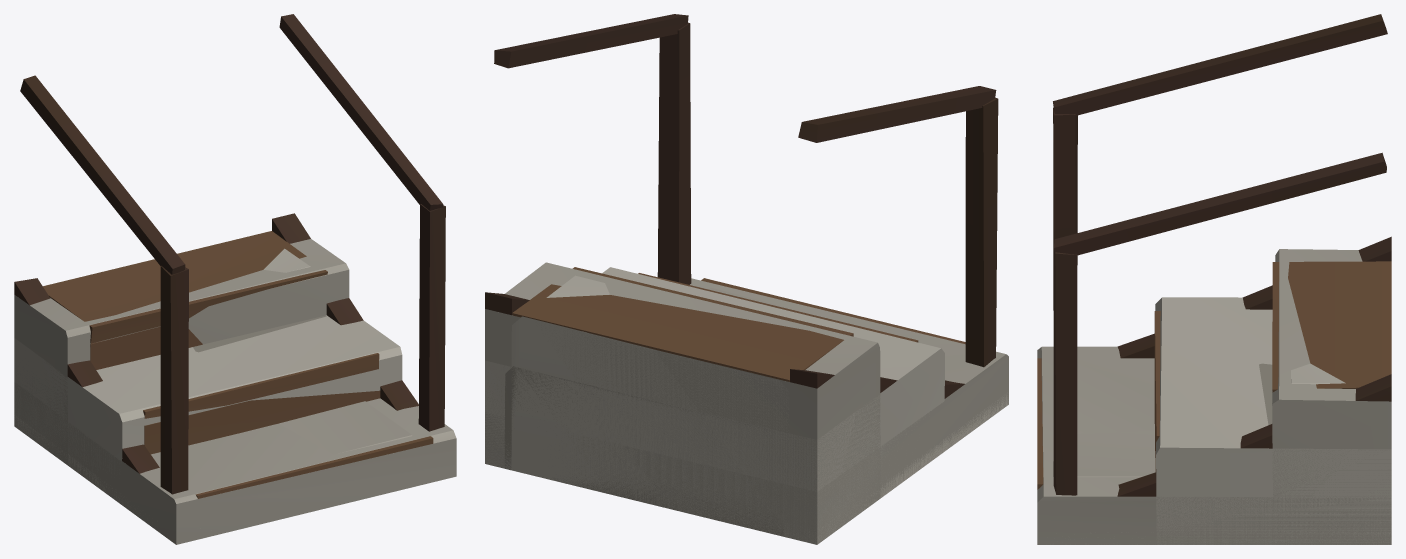
Rendered from stair.glb.
3 renders of one model, left to right at view 1: azimuth 30°, elevation 25°; view 2: azimuth 150°, elevation 25°; view 3: azimuth 270°, elevation 25°, orthographic. The views are drawn at different scales.
Parts seen in each view (by area): view 1: stair.v0.mesh, stair.v1.mesh, stair.v2.mesh; view 2: stair.v0.mesh, stair.v1.mesh, stair.v2.mesh; view 3: stair.v0.mesh, stair.v1.mesh, stair.v2.mesh.
Part boxes in pixels (x1,y1,x2,y2): stair.v0.mesh: (14, 239, 456, 544); stair.v1.mesh: (14, 14, 445, 498); stair.v2.mesh: (14, 248, 412, 522); stair.v0.mesh: (485, 262, 1008, 544); stair.v1.mesh: (485, 14, 998, 398); stair.v2.mesh: (504, 275, 1008, 544); stair.v0.mesh: (1037, 249, 1391, 544); stair.v1.mesh: (1037, 14, 1391, 496); stair.v2.mesh: (1050, 363, 1390, 544).
Bounding box in the file's own units: 1 × 1.19 × 1.
